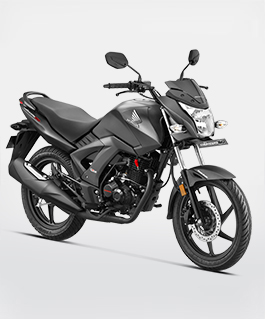motorcycle: (7, 49, 253, 276)
